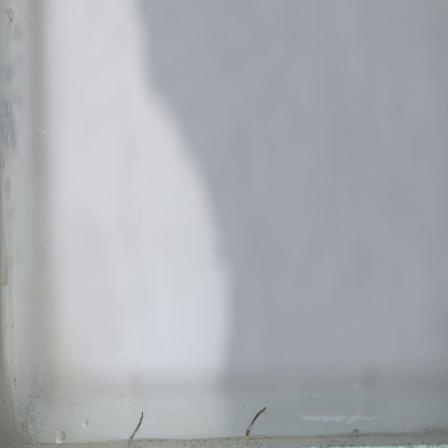Jentik-Nyamuk: (242, 403, 271, 439), (126, 409, 149, 438)
